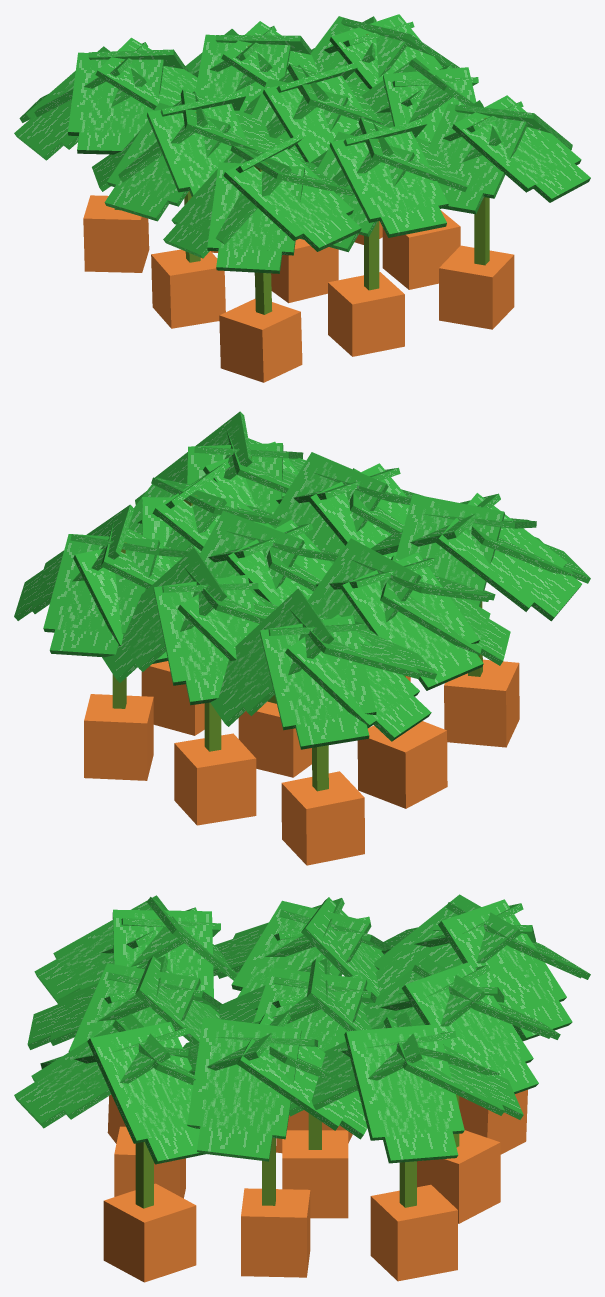
The model's file is carrot.gltf.
The picture shows the model from 3 angles, top to bottom: view 1: azimuth 30°, elevation 25°; view 2: azimuth 150°, elevation 25°; view 3: azimuth 270°, elevation 25°; orthographic projection. The views are drawn at different scales.
Parts seen in each view (by area): view 1: 2461cca8-0d82-c8ac-8c49-b8566c331aa0, d2cc36ee-bc96-4f14-b1b1-709f5e9df36e, 7a130faa-75f1-661d-7d40-0a89705b1e27, 387ed165-c64b-20df-47da-4319874017dc, 17385b1c-6ed8-9d18-7ac7-79b058b072c2, ac297e5f-b06c-b2ed-320a-1bb97872d016, 96a84791-ca2e-91da-8080-56471ba43ec9, fae74464-c7e7-362f-04f8-4a725764833a, d09e1bc3-f080-63a4-6a1d-69b43bc480ed, e7ab2ed5-d9a4-b2d9-f298-c4c0dab22df7, 510e711f-4f1d-f1e7-c329-b1041310f846, a26a0564-12e1-7bca-9bce-96d365f4b1da (+54 smaller); view 2: fae74464-c7e7-362f-04f8-4a725764833a, 622c6d14-f972-e2ab-0b97-9b2092cc1918, 17385b1c-6ed8-9d18-7ac7-79b058b072c2, 95669adf-e0df-ca22-f00e-191f22777c62, c72795af-eba6-ba34-e8ad-93b0f8153e40, 2461cca8-0d82-c8ac-8c49-b8566c331aa0, 9992c387-7034-2e3c-4663-7578ec3ad57a, 4f5a0d04-f22b-58a5-c8b2-36c2f17d5abb, c57effb2-4bae-1856-3157-5de3b76f4a65, f43c9e43-019e-976e-31ff-d704aba6339e, 1c551d08-fabd-4172-9b23-c8a1a1f57936, c0fc620b-d6ae-6c21-7573-650b49b0f846 (+52 smaller); view 3: 796b915b-510a-710a-2c84-5c37d85ea25e, a5db3ae8-ef03-dbb5-5f55-424ff66fa23d, 840a76a3-a027-4472-b9ad-a0ac18cb2ae5, e86534e9-de7d-3ea7-2b2a-eabe35570053, 7a130faa-75f1-661d-7d40-0a89705b1e27, c72795af-eba6-ba34-e8ad-93b0f8153e40, 05afdb43-c9b8-c03b-a162-f68a70fcaa94, e7ab2ed5-d9a4-b2d9-f298-c4c0dab22df7, 11f4342c-8326-e826-5360-b698e6f43cd5, c2411a2e-a032-d5b7-5b62-6cbea39725ba, f43c9e43-019e-976e-31ff-d704aba6339e, 5df1d150-d3d2-5cdb-fb18-77c7cd222178 (+54 smaller).
Part boxes in pixels (left/top/right/bottom): 2461cca8-0d82-c8ac-8c49-b8566c331aa0: left=219, top=299, right=302, bottom=382; d2cc36ee-bc96-4f14-b1b1-709f5e9df36e: left=328, top=272, right=404, bottom=356; 7a130faa-75f1-661d-7d40-0a89705b1e27: left=439, top=245, right=514, bottom=329; 387ed165-c64b-20df-47da-4319874017dc: left=329, top=131, right=448, bottom=222; 17385b1c-6ed8-9d18-7ac7-79b058b072c2: left=151, top=249, right=225, bottom=328; ac297e5f-b06c-b2ed-320a-1bb97872d016: left=68, top=52, right=164, bottom=135; 96a84791-ca2e-91da-8080-56471ba43ec9: left=223, top=148, right=353, bottom=240; fae74464-c7e7-362f-04f8-4a725764833a: left=83, top=195, right=149, bottom=272; d09e1bc3-f080-63a4-6a1d-69b43bc480ed: left=147, top=103, right=246, bottom=192; e7ab2ed5-d9a4-b2d9-f298-c4c0dab22df7: left=382, top=210, right=460, bottom=289; 510e711f-4f1d-f1e7-c329-b1041310f846: left=427, top=103, right=527, bottom=198; a26a0564-12e1-7bca-9bce-96d365f4b1da: left=207, top=162, right=304, bottom=255; fae74464-c7e7-362f-04f8-4a725764833a: left=281, top=771, right=364, bottom=865; 622c6d14-f972-e2ab-0b97-9b2092cc1918: left=174, top=733, right=256, bottom=825; 17385b1c-6ed8-9d18-7ac7-79b058b072c2: left=357, top=721, right=447, bottom=808; 95669adf-e0df-ca22-f00e-191f22777c62: left=260, top=615, right=376, bottom=730; c72795af-eba6-ba34-e8ad-93b0f8153e40: left=84, top=694, right=153, bottom=780; 2461cca8-0d82-c8ac-8c49-b8566c331aa0: left=444, top=659, right=519, bottom=747; 9992c387-7034-2e3c-4663-7578ec3ad57a: left=43, top=534, right=160, bottom=633; 4f5a0d04-f22b-58a5-c8b2-36c2f17d5abb: left=153, top=574, right=257, bottom=685; c57effb2-4bae-1856-3157-5de3b76f4a65: left=340, top=552, right=479, bottom=662; f43c9e43-019e-976e-31ff-d704aba6339e: left=224, top=588, right=333, bottom=715; 1c551d08-fabd-4172-9b23-c8a1a1f57936: left=353, top=556, right=483, bottom=690; c0fc620b-d6ae-6c21-7573-650b49b0f846: left=445, top=499, right=581, bottom=621; 796b915b-510a-710a-2c84-5c37d85ea25e: left=344, top=1024, right=464, bottom=1140; a5db3ae8-ef03-dbb5-5f55-424ff66fa23d: left=187, top=1017, right=301, bottom=1139; 840a76a3-a027-4472-b9ad-a0ac18cb2ae5: left=197, top=1019, right=288, bottom=1161; e86534e9-de7d-3ea7-2b2a-eabe35570053: left=359, top=1025, right=458, bottom=1163; 7a130faa-75f1-661d-7d40-0a89705b1e27: left=103, top=1183, right=196, bottom=1282; c72795af-eba6-ba34-e8ad-93b0f8153e40: left=370, top=1184, right=457, bottom=1281; 05afdb43-c9b8-c03b-a162-f68a70fcaa94: left=101, top=1024, right=205, bottom=1164; e7ab2ed5-d9a4-b2d9-f298-c4c0dab22df7: left=241, top=1188, right=310, bottom=1277; 11f4342c-8326-e826-5360-b698e6f43cd5: left=401, top=961, right=533, bottom=1071; c2411a2e-a032-d5b7-5b62-6cbea39725ba: left=87, top=1021, right=195, bottom=1143; f43c9e43-019e-976e-31ff-d704aba6339e: left=438, top=899, right=566, bottom=1012; 5df1d150-d3d2-5cdb-fb18-77c7cd222178: left=282, top=1130, right=348, bottom=1218.
Bounding box in the file's own units: 0.5006 × 0.2563 × 0.5456.
Materials: 3 (3 with a texture image).
